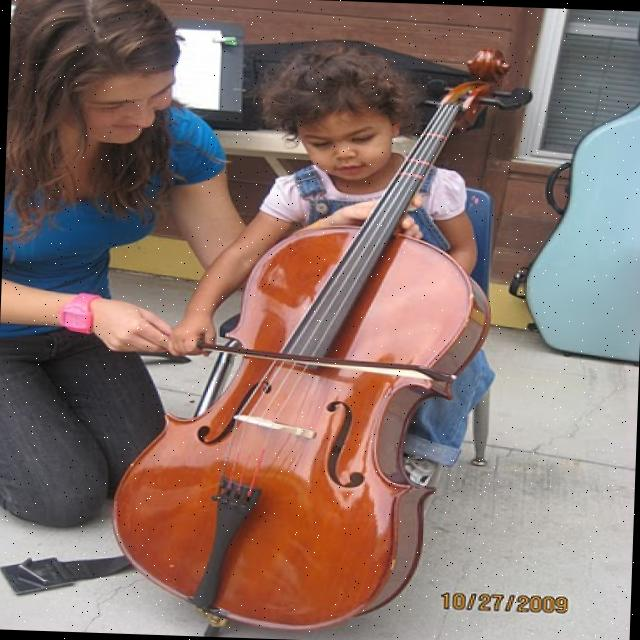cello: (105, 33, 542, 640)
